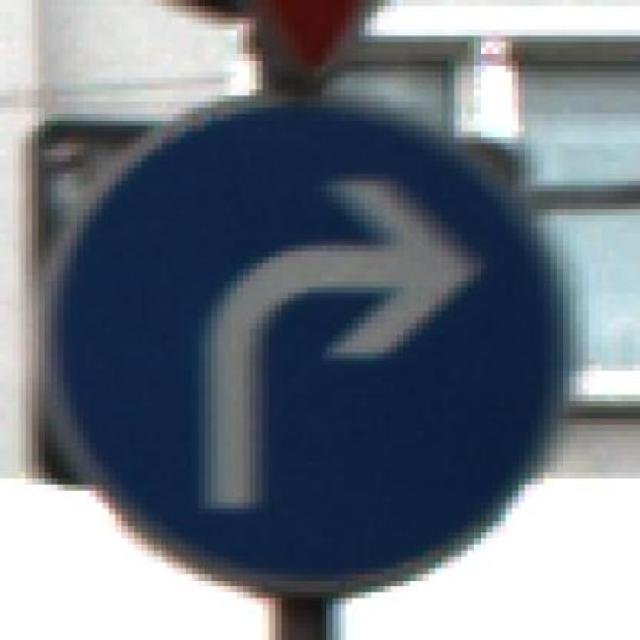Turn right ahead: (39, 90, 583, 610)
